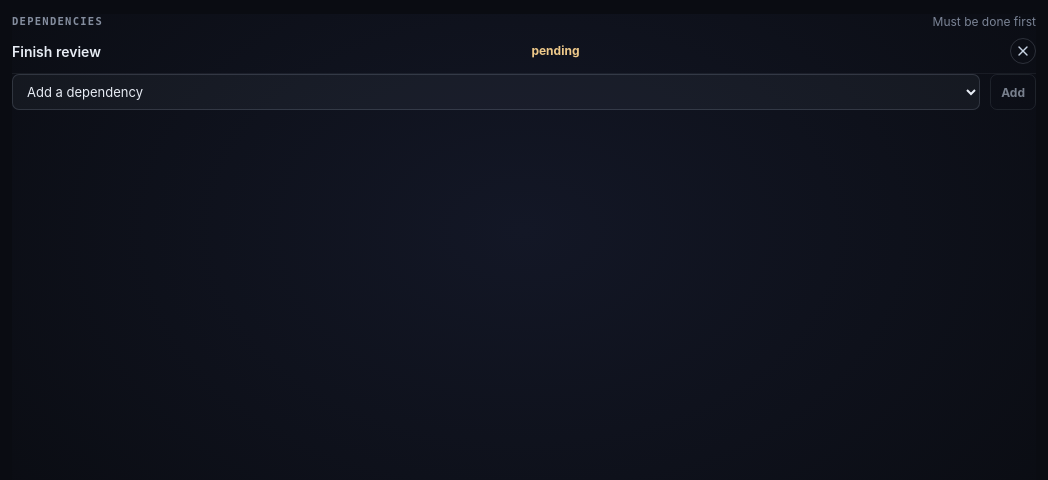
TaskDependencies › prefers the API's detail over the generic status message
Click the button named "Remove dependency Finish review". click: (1023, 51)
box: [1010,38,1036,64]
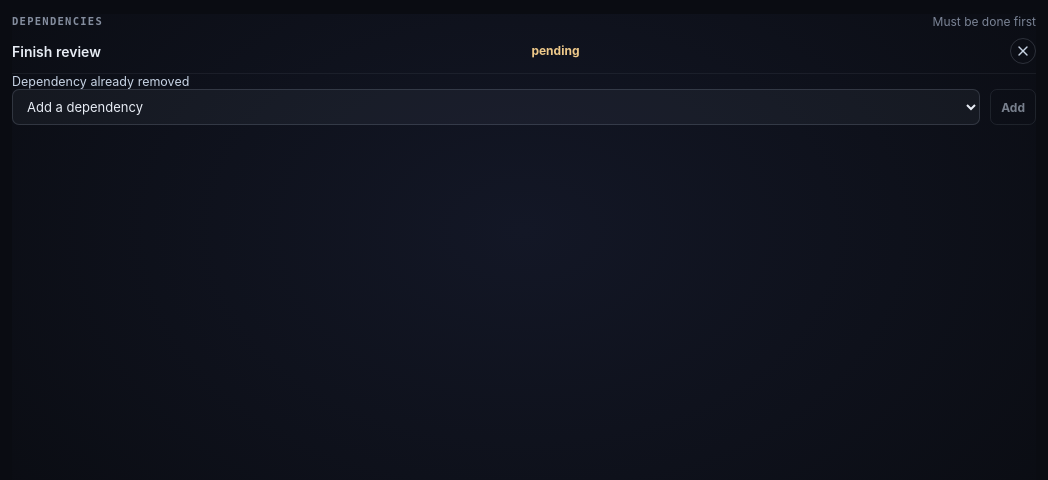
Now the message reads "Dependency already removed", box [12,74,189,89]
